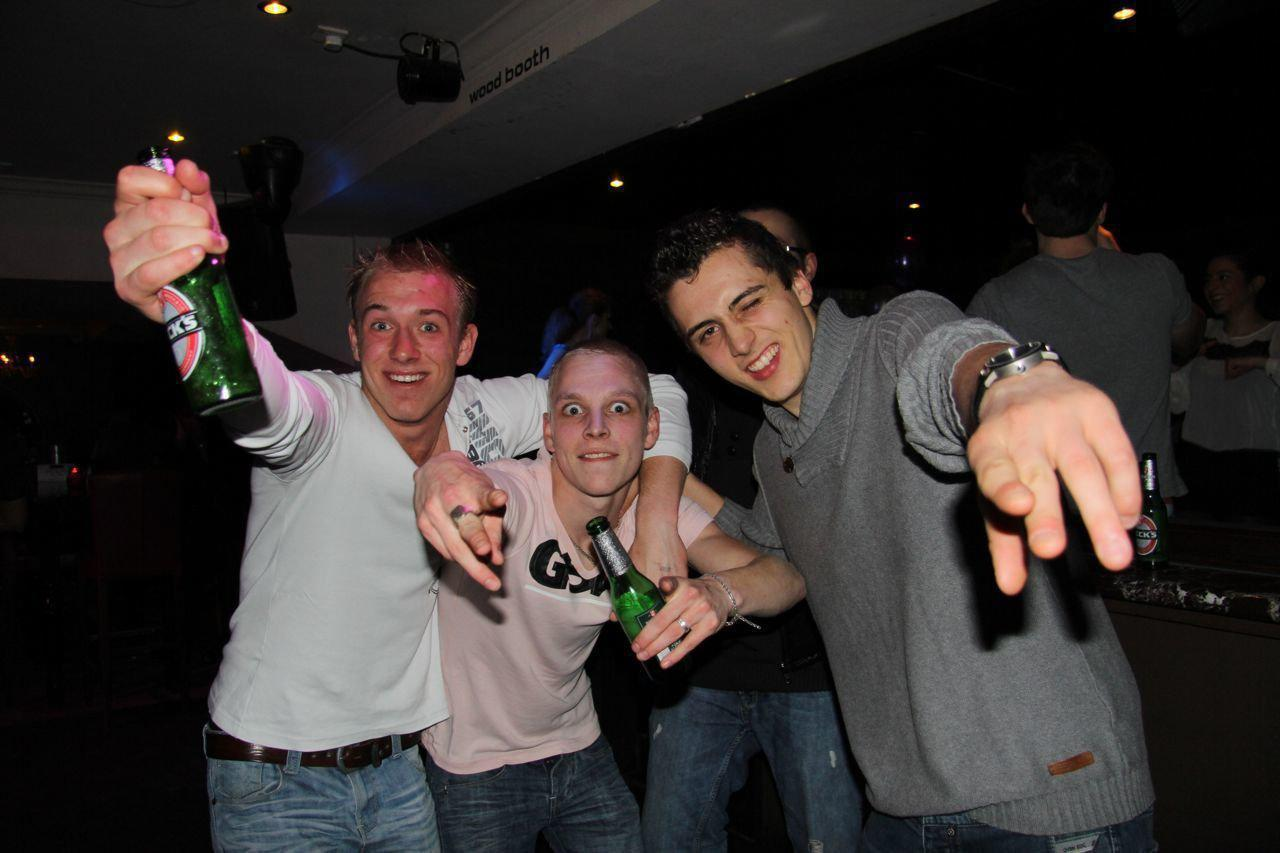Drunk: (669, 264, 810, 400), (357, 272, 462, 417), (557, 352, 647, 490)
